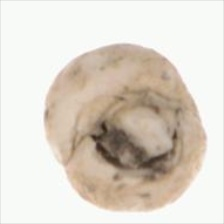L3: (91, 95, 178, 171)
L4: (43, 42, 208, 213)
